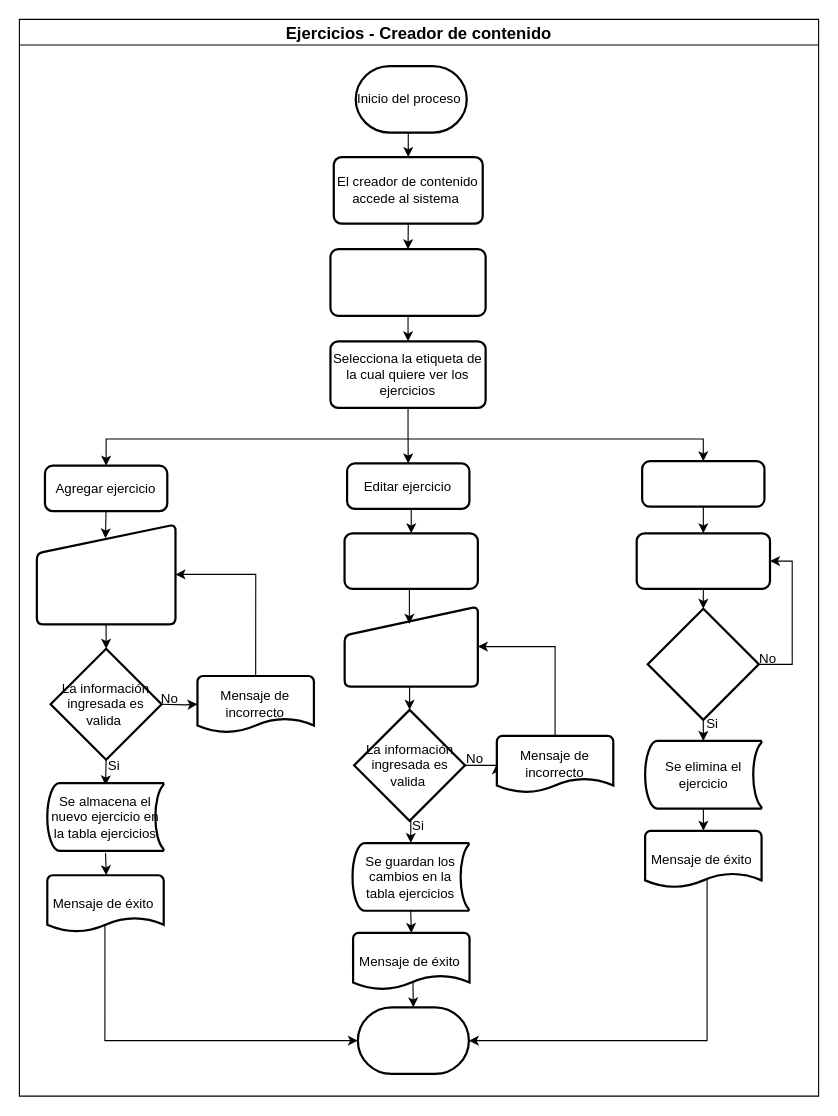
Some shapes in this 838 by 1116 pixel diagram are drawn without their labels. Here are the shapes that lost their labels. From the top down, the box of each, then its label:
(329, 248, 486, 316): Selecciona el lenguaje para ver las etiquetas accediendo desde el tablero o menú
(640, 460, 765, 507): Eliminar ejercicio
(35, 523, 176, 625): Nombre, descripción, imagen de ejemplo, imagen de resultado y tarjetas
(343, 532, 478, 589): Selecciona ejercicio editar
(635, 532, 771, 589): Selecciona el ejercicio a eliminar
(343, 605, 478, 687): Nombre, descripción, imagen de ejemplo o imagen de resultado
(646, 607, 759, 720): Confirmar la eliminación
(356, 1006, 469, 1074): Fin del proceso
